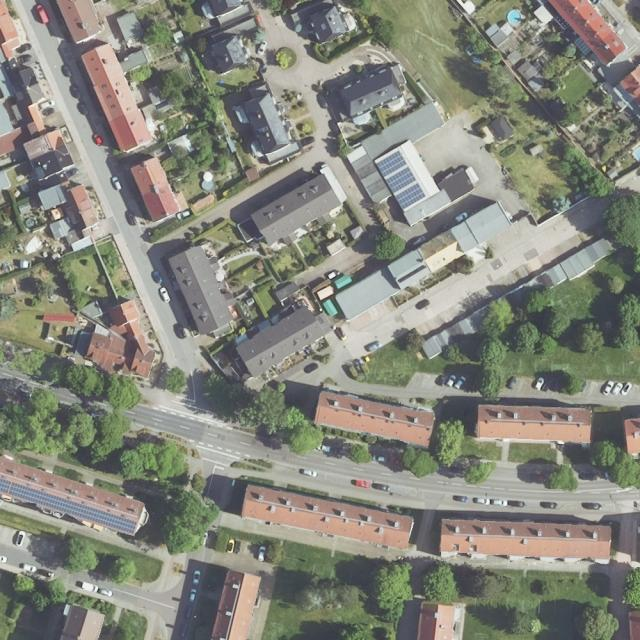PV: (0, 477, 136, 535), (375, 150, 425, 210), (257, 126, 269, 136)
ST: (36, 165, 46, 180)
